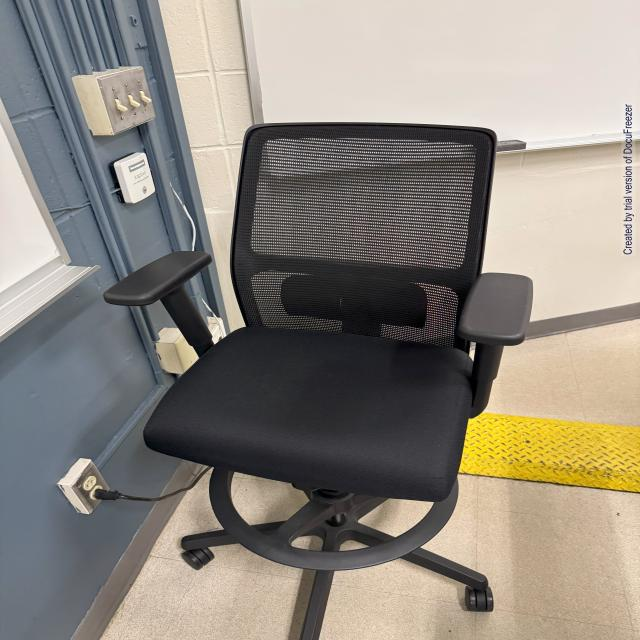chair: (112, 119, 530, 637)
